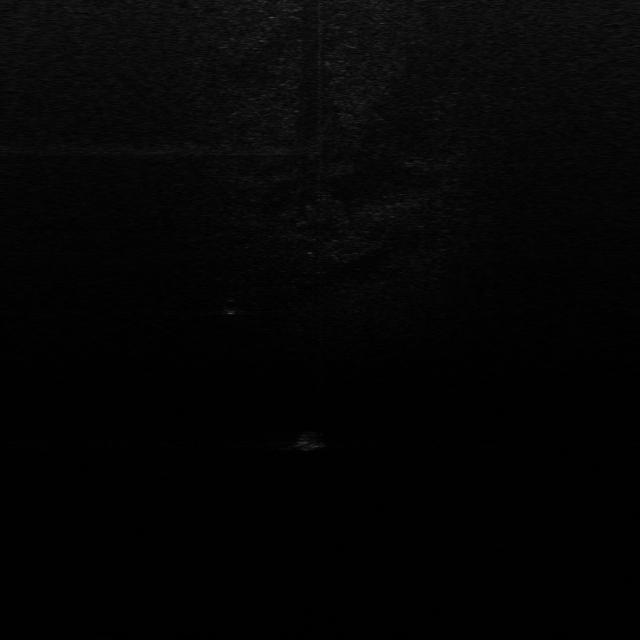ball: (292, 429, 324, 452)
circle cage: (219, 296, 243, 316)
